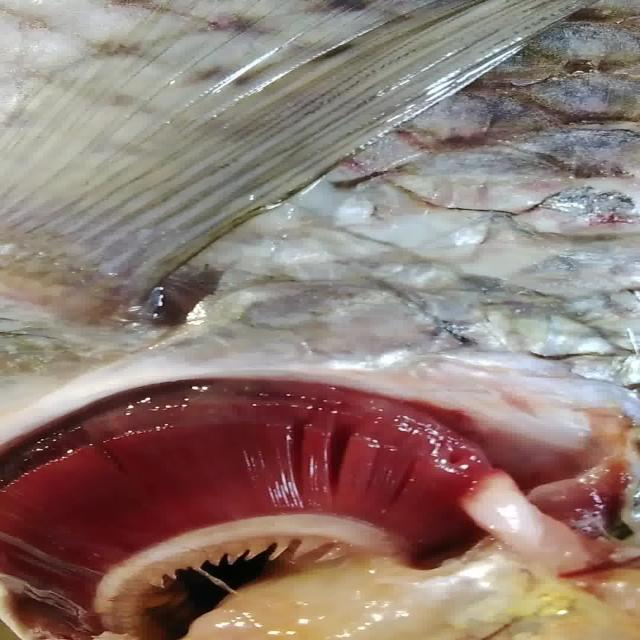Fresh: (4, 363, 560, 632)
